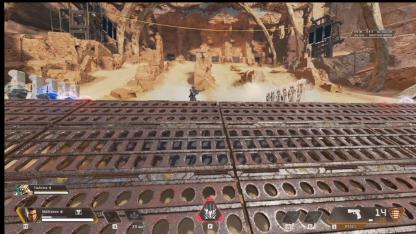Target: (188, 84, 200, 100)
